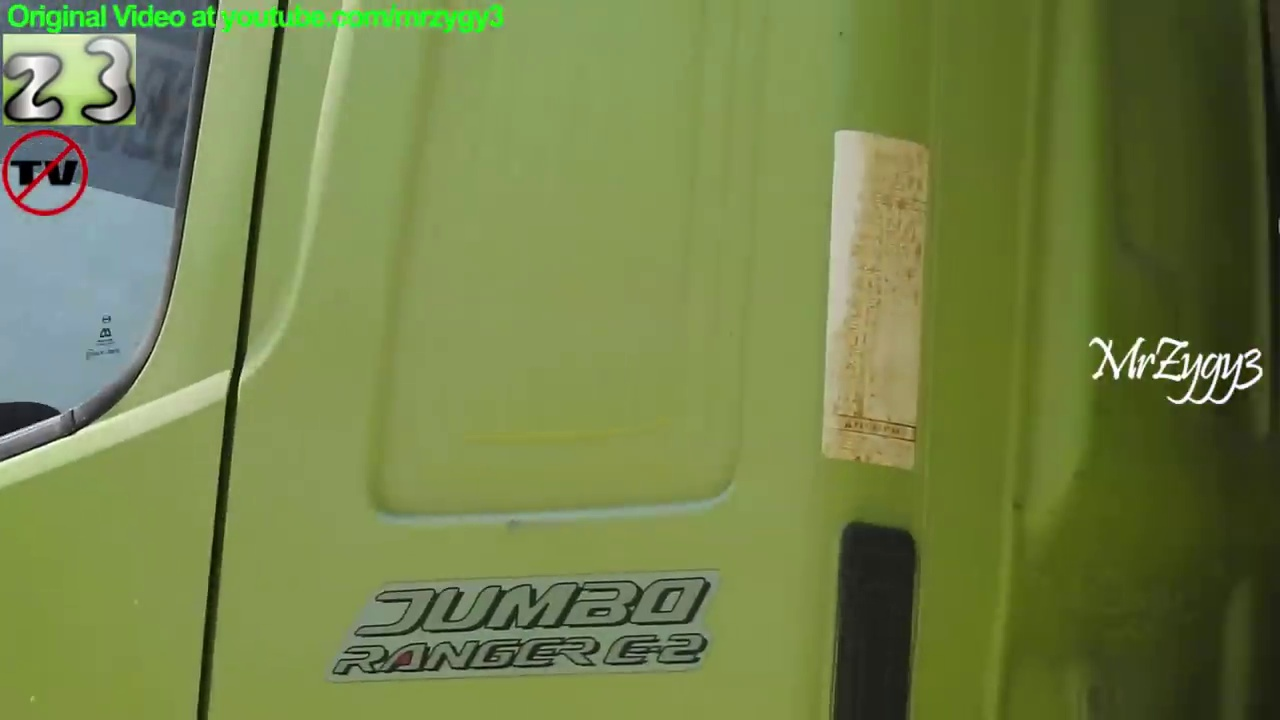truck: (1, 1, 1280, 720)
